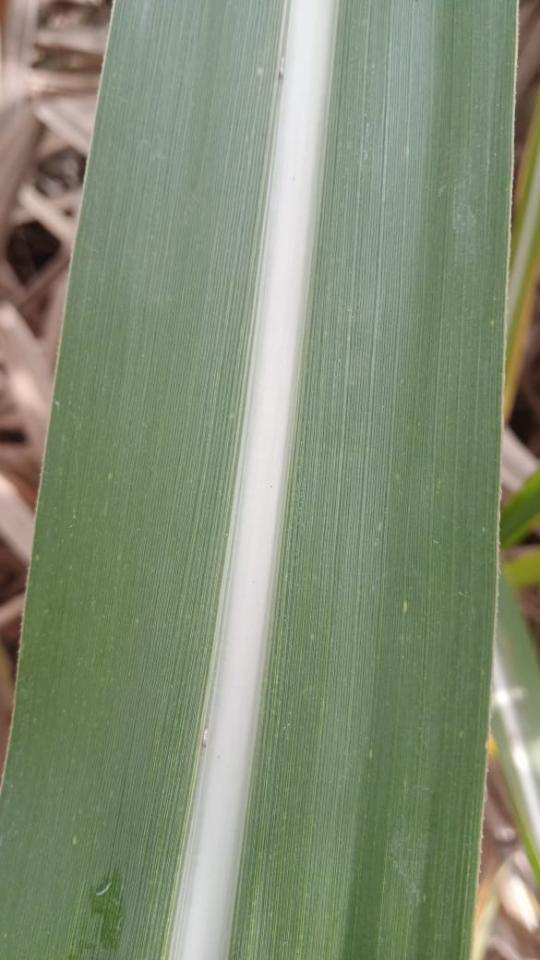Healthy: (0, 0, 518, 959)
